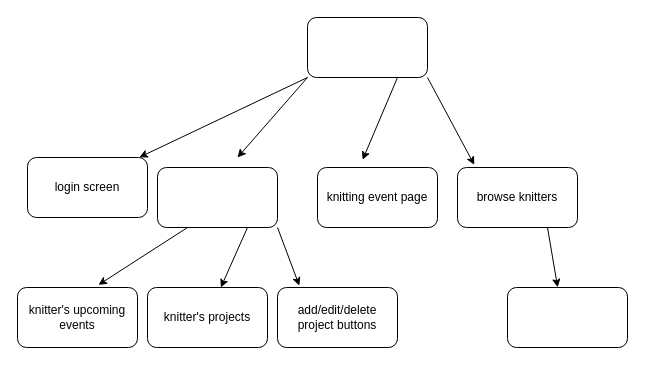
The diagram is 645 pixels wide and 365 high, and some of its shapes have lost their labels. The centre of each missing label's shape, as x and y in pixels:
"App" belongs at (x=367, y=47).
"detailed knitter pages" belongs at (x=567, y=317).
"welcome screen" belongs at (x=217, y=197).
